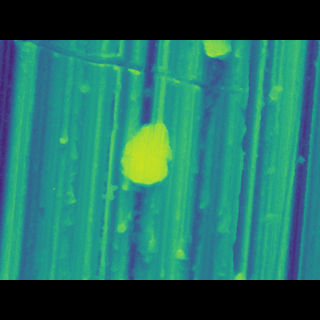Loch: (16, 68, 287, 114), (114, 126, 176, 184)
